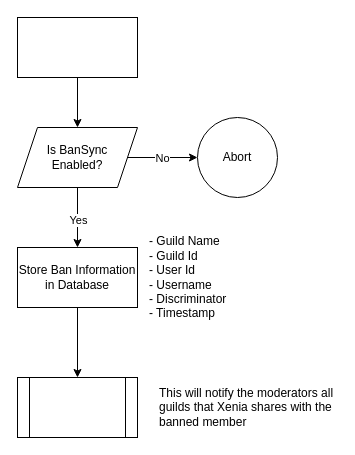
Some shapes in this 355 by 455 pixel diagram are drawn without their labels. Each missing label, with the box of its shape:
Member gets banned in guild: (16, 16, 138, 78)
Notify Mutual Guilds: (16, 376, 138, 438)
